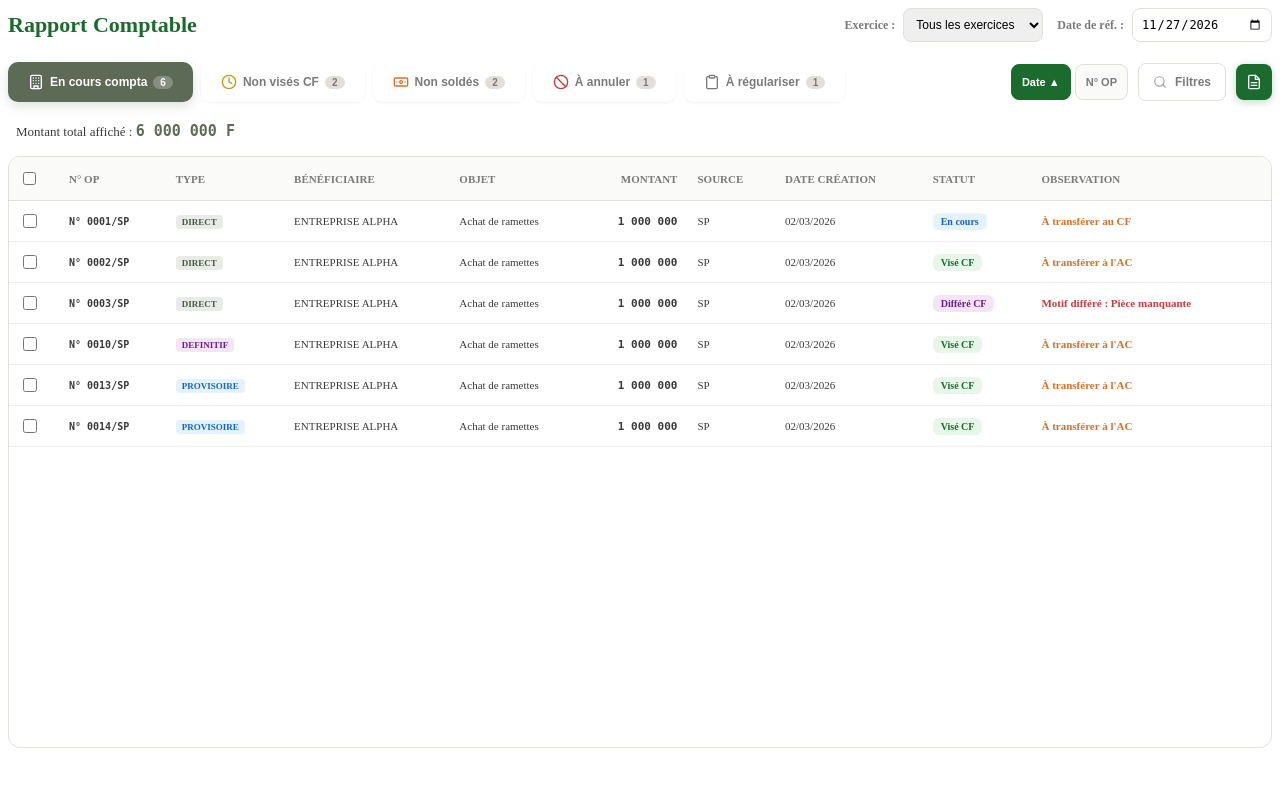
it: Rapport — À annuler › le délai court depuis le visa du CF
Type "2026-03-23" into the date field at (1202, 25), box [1132, 8, 1272, 42]
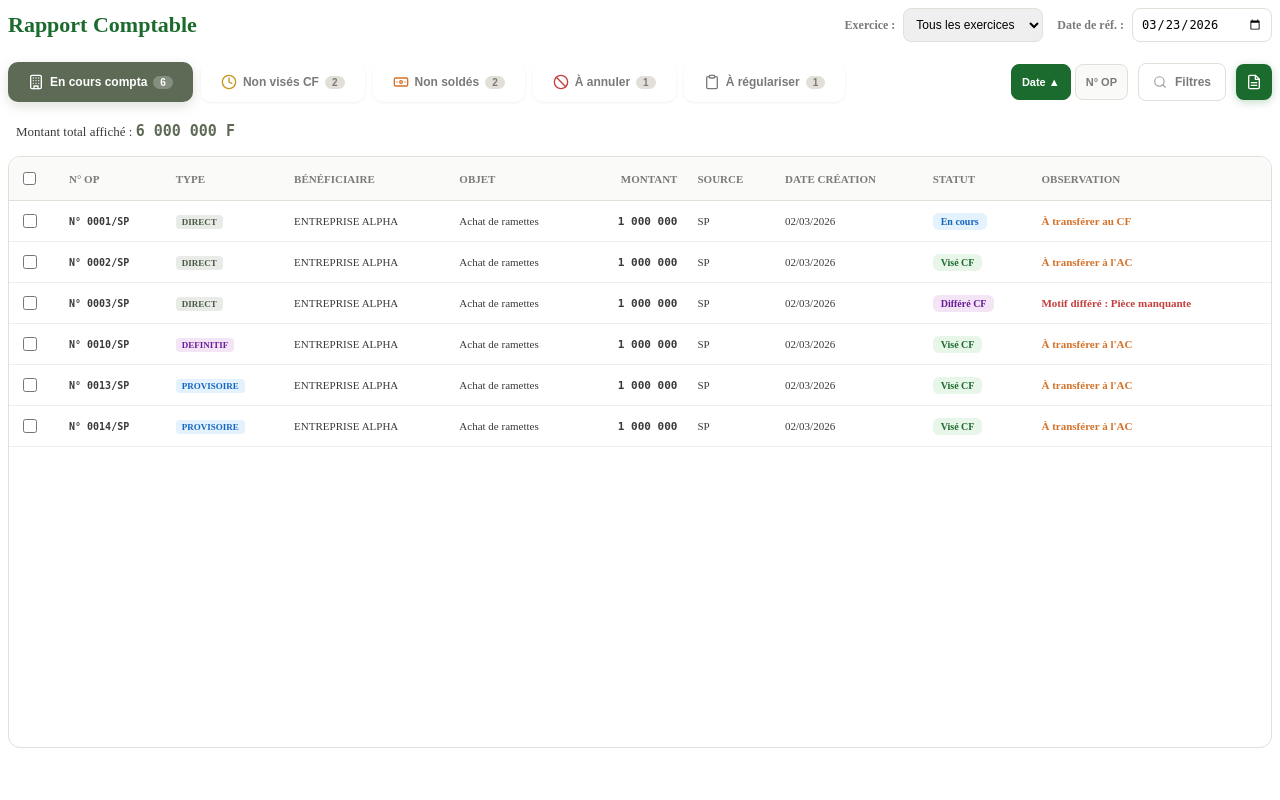
Click the button "À annuler 1" at (604, 82), box [533, 62, 676, 102]
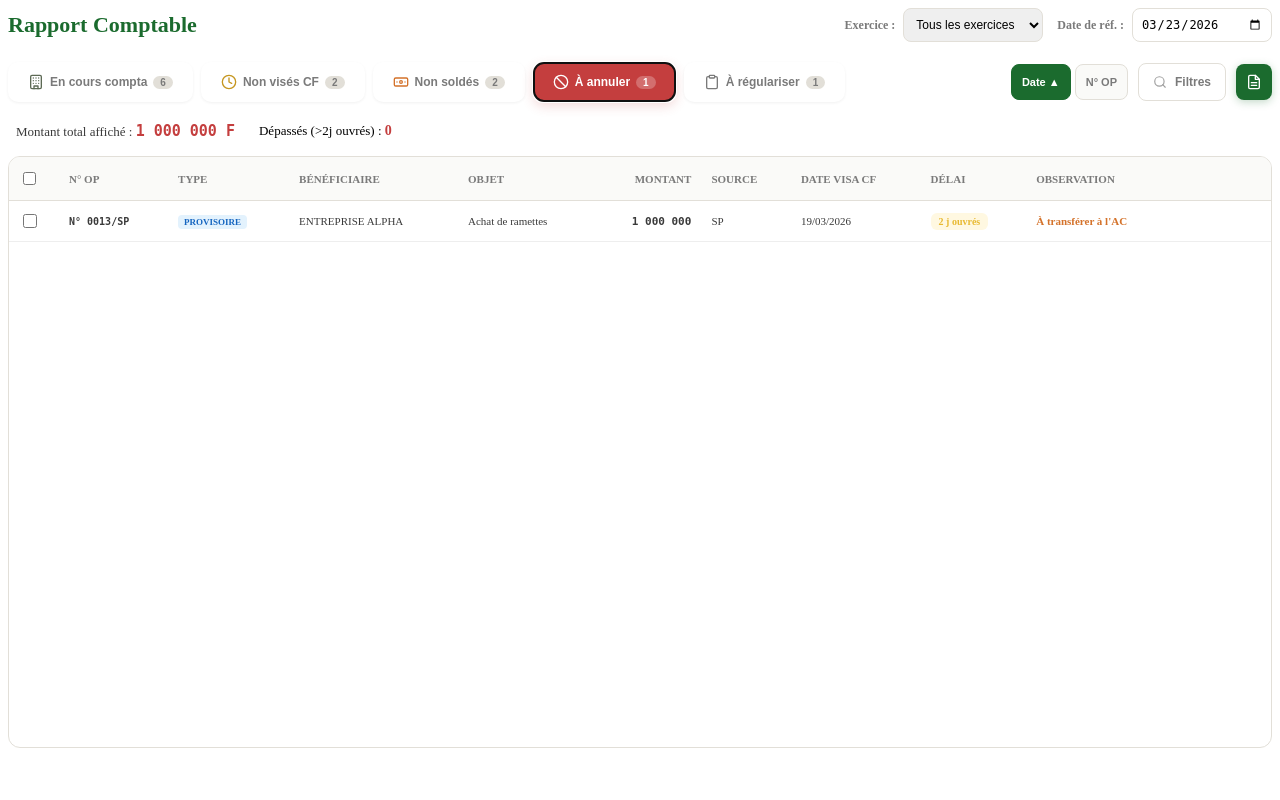
expect the text "2 j ouvrés" is shown: met, box [931, 213, 988, 230]
